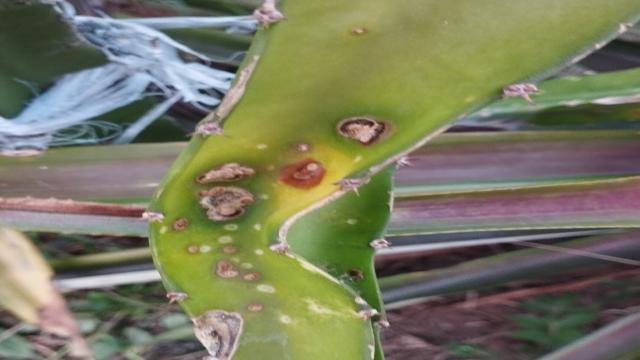stemcanker: (163, 218, 269, 284), (245, 274, 314, 348)
